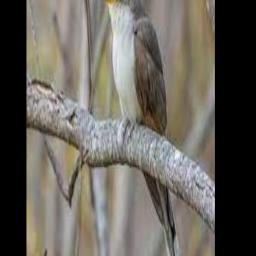Cuckoo: (97, 0, 187, 256)
